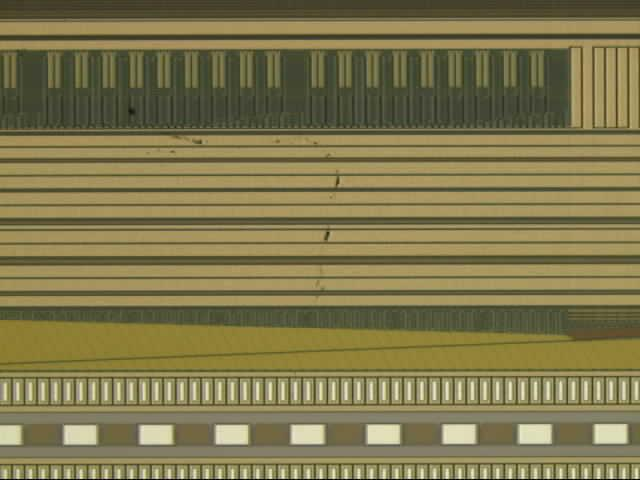PO CONTAMINATION: (121, 103, 347, 325)
